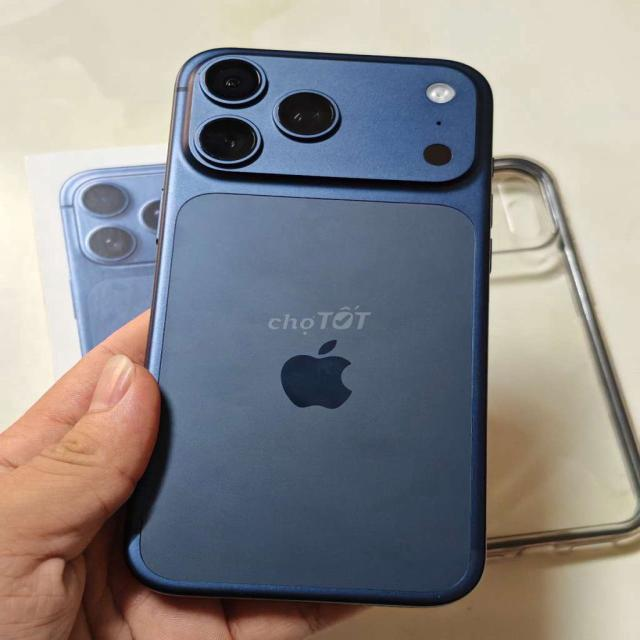gen_17: (130, 46, 507, 612)
